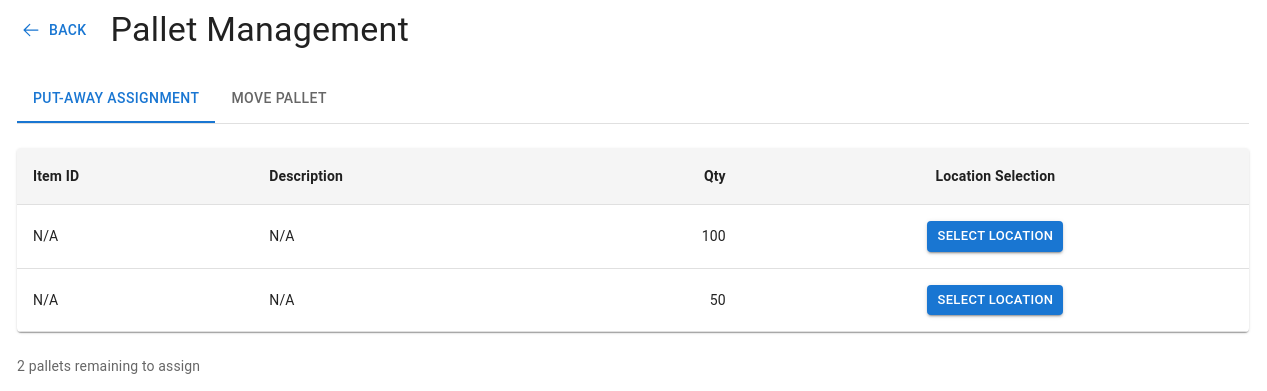
Test case: Screen 8: Put-Away Pallet Assignment › should display current location when selecting pallet to move (AC: 3)
The width and height of the screenshot is (1267, 391).
Click the tab "Move Pallet": (279, 99) [215,75,343,123]
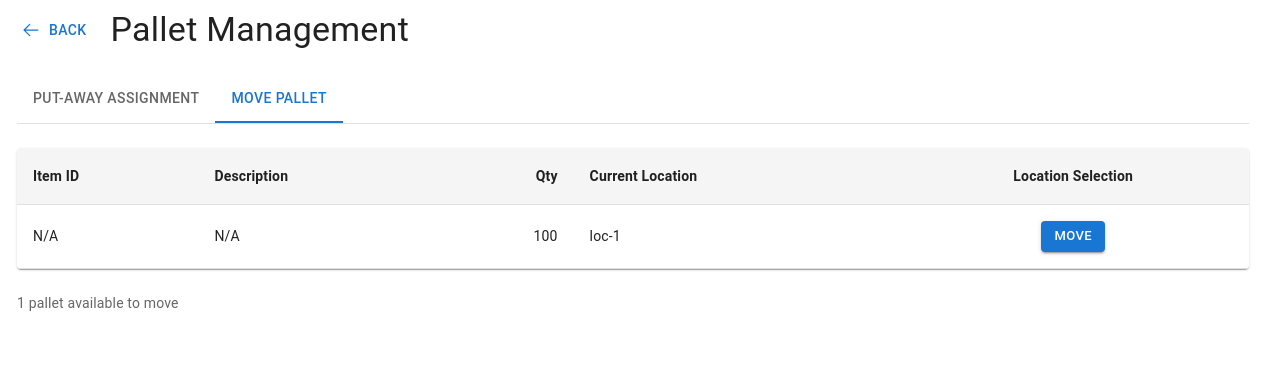
Now the text "loc-1" is shown, box [574,204,897,268]
